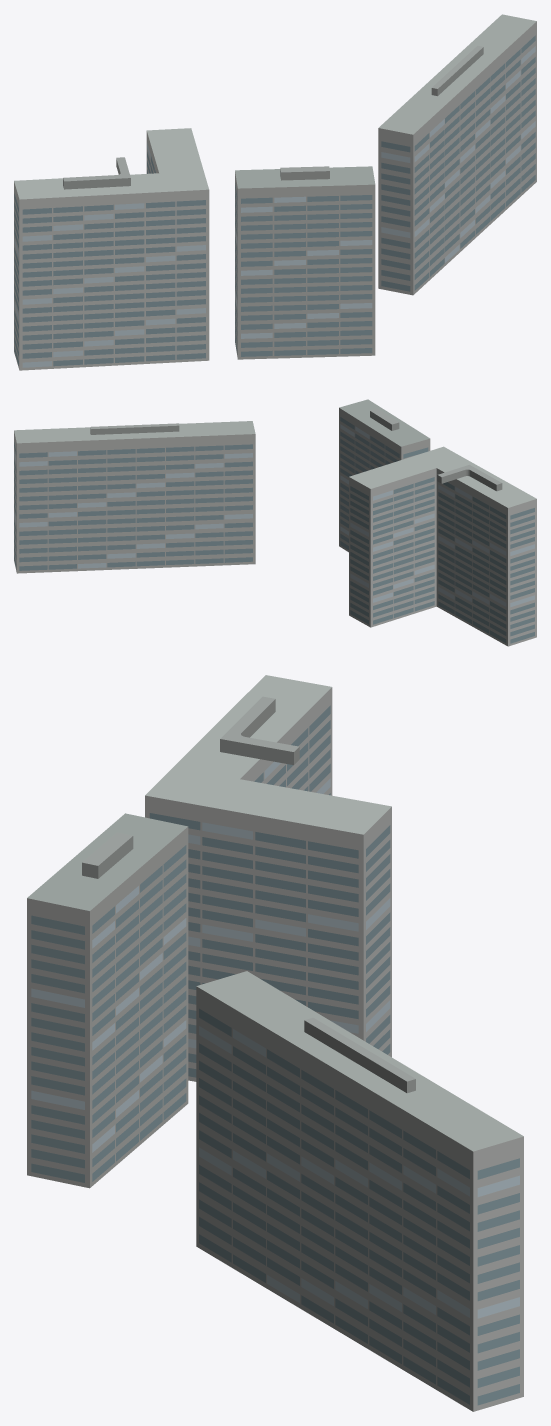
Rendered from apt-a14206302.glb.
3 views of the same model, one above another, from view 1: azimuth 30°, elevation 25°; view 2: azimuth 150°, elevation 25°; view 3: azimuth 270°, elevation 25° (orthographic). The views are drawn at different scales.
Parts seen in each view (by area): view 1: apt-a14206302; view 2: apt-a14206302; view 3: apt-a14206302.
Part boxes in pixels (x1,y1,x2,y2): apt-a14206302: [14, 14, 536, 370]; apt-a14206302: [14, 399, 536, 646]; apt-a14206302: [27, 675, 523, 1411].
Size of the model in its own units: 173 by 51 by 79.17.
